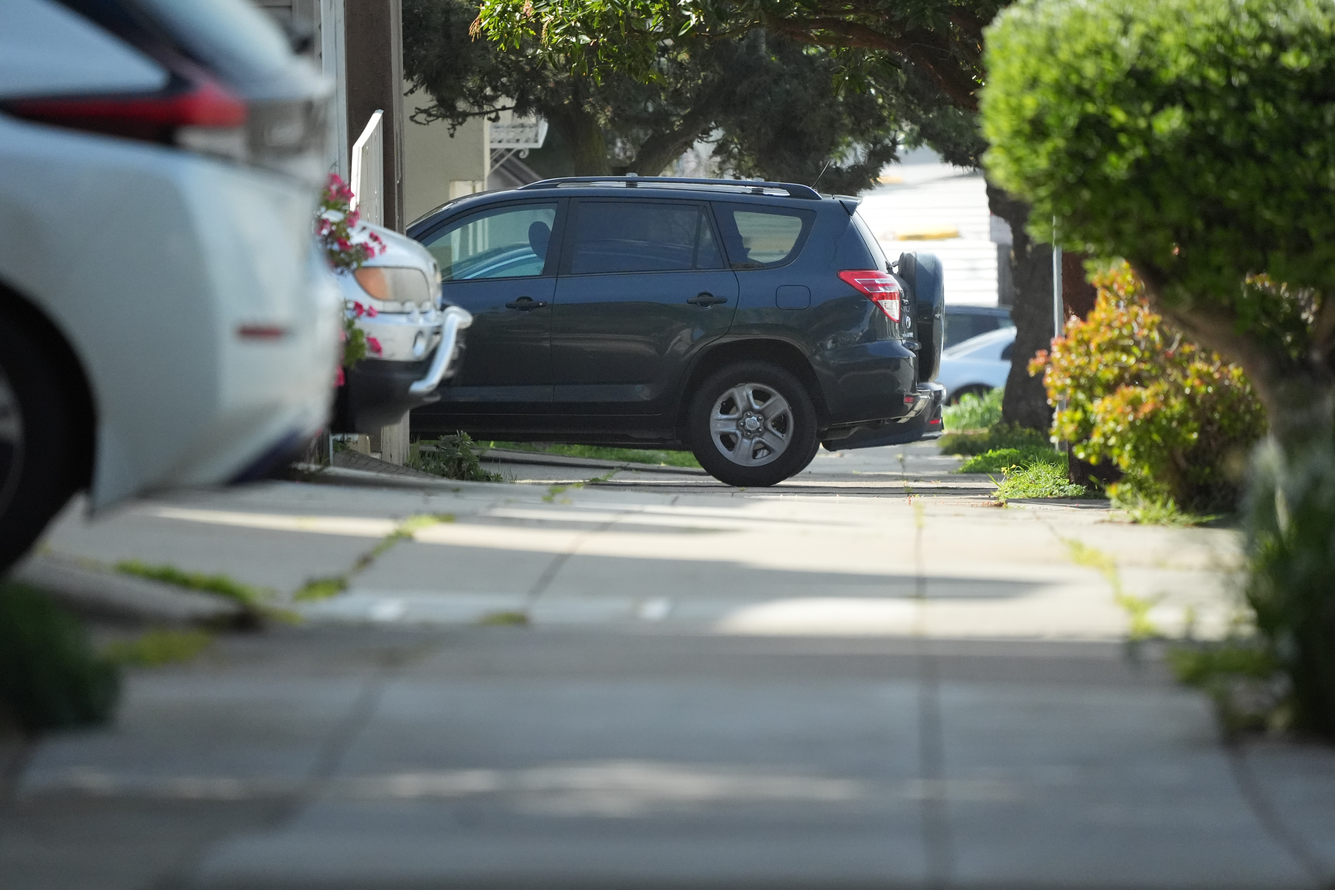Car: (409, 181, 969, 490)
